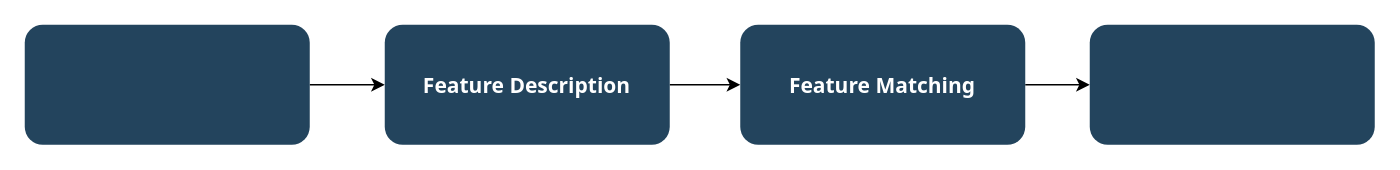
The diagram is 1400 pixels wide and 170 high, and some of its shapes have lost their labels. Here are the shapes that lost their labels. From the top down, the centre of each, then its label:
At point 166,84: "Feature Detection".
At point 1231,84: "Matching Evaluation".
